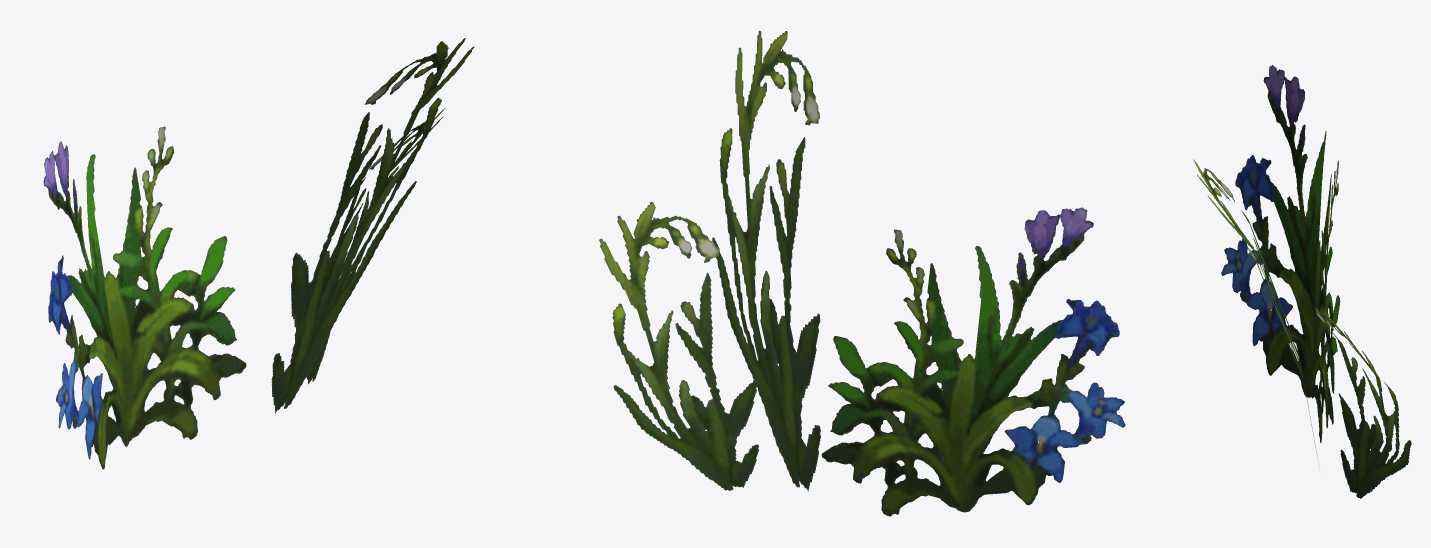
File: zz_hua_1.FBX
The picture shows the model from 3 angles, left to right: view 1: azimuth 30°, elevation 25°; view 2: azimuth 150°, elevation 25°; view 3: azimuth 270°, elevation 25°; orthographic projection. The views are drawn at different scales.
Parts seen in each view (by area): view 1: zz_hua_1; view 2: zz_hua_1; view 3: zz_hua_1.
Boxes of the visible parts, x1,y1,x2,y2 form: zz_hua_1: [43, 38, 474, 469]; zz_hua_1: [599, 30, 1125, 516]; zz_hua_1: [1193, 65, 1411, 498].
Bounding box in the file's own units: 363 × 276 × 151.
